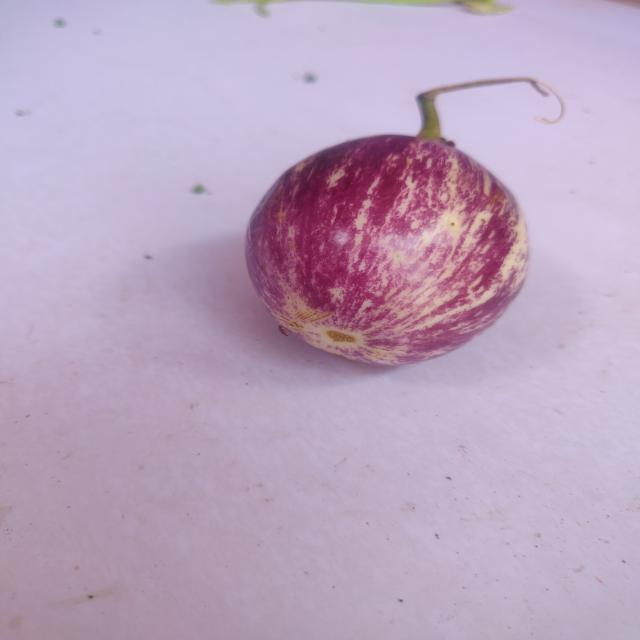Eggplant: (236, 98, 542, 371)
